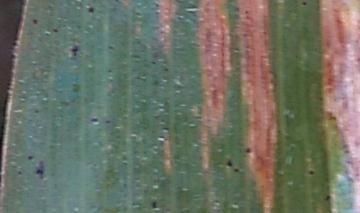tarspot: (69, 43, 81, 58), (33, 165, 45, 179), (323, 191, 333, 205), (102, 116, 113, 128), (49, 26, 63, 35), (25, 152, 36, 163), (243, 145, 253, 156), (86, 4, 96, 15), (150, 198, 158, 211), (90, 116, 100, 126), (307, 167, 316, 178), (299, 1, 311, 9), (231, 165, 240, 174), (30, 17, 39, 26), (225, 158, 232, 167)
